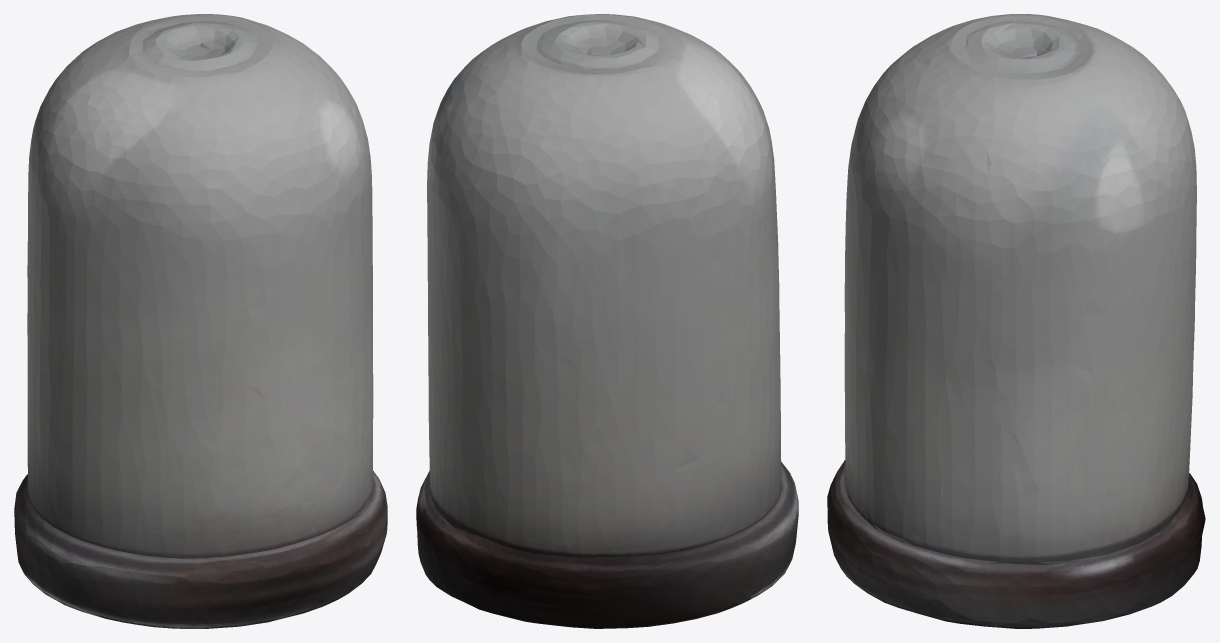
File: ast_4455b63b1e0b.glb
3 views of the same model, side by side, from view 1: azimuth 30°, elevation 25°; view 2: azimuth 150°, elevation 25°; view 3: azimuth 270°, elevation 25° (orthographic).
Parts seen in each view (by area): view 1: geometry_0; view 2: geometry_0; view 3: geometry_0.
Boxes of the visible parts, box(x1,y1,x2,y2) form: geometry_0: box(14, 14, 387, 628); geometry_0: box(416, 14, 798, 628); geometry_0: box(827, 14, 1205, 628).
Bounding box in the file's own units: 0.3446 × 0.5122 × 0.3429.
Materials: 1 (1 with a texture image).
